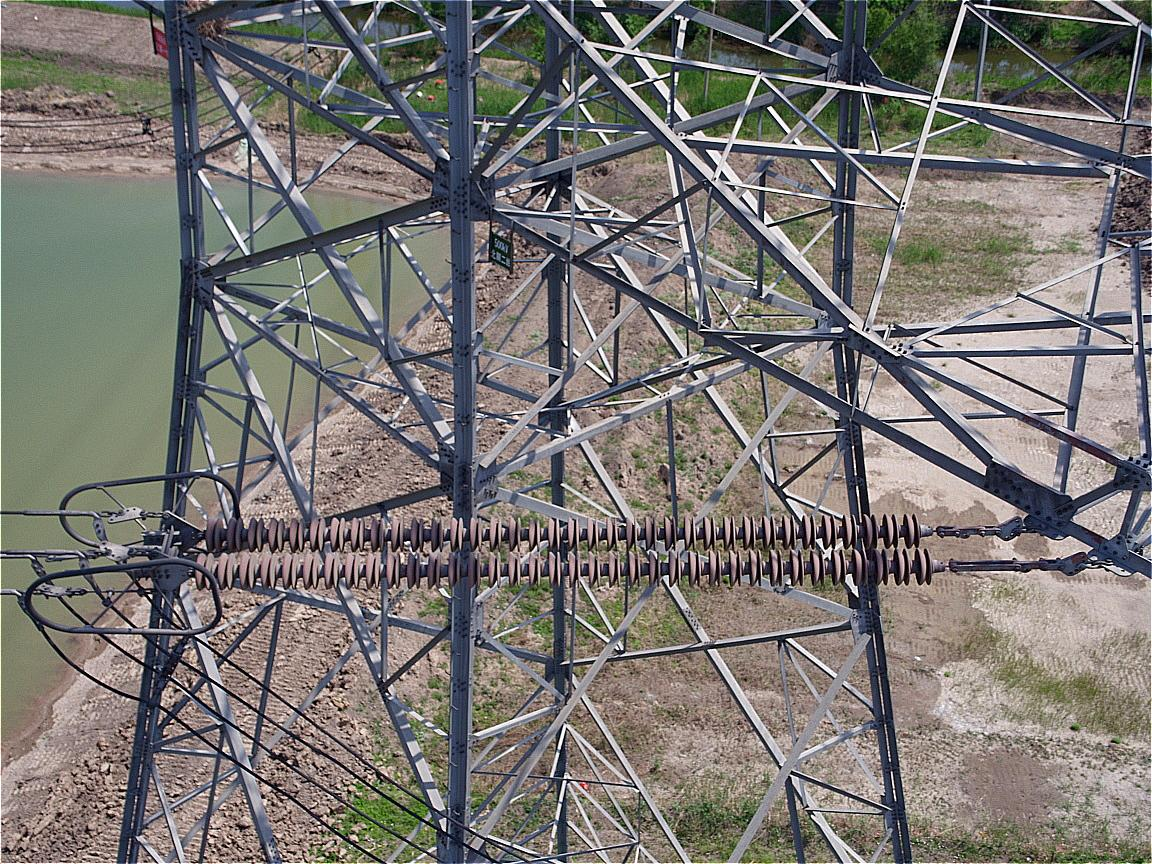insultor2: (183, 477, 976, 614)
